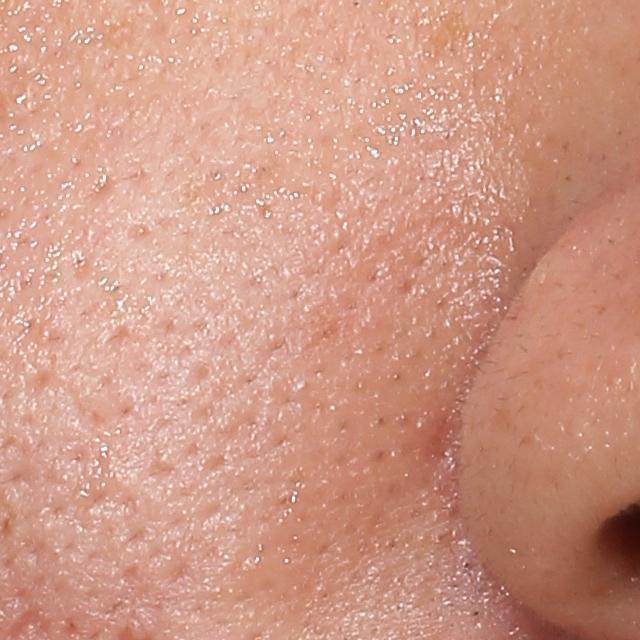atrophic_scar: (170, 143, 350, 224), (13, 365, 146, 447), (12, 222, 112, 287), (0, 291, 66, 352), (63, 165, 149, 208)
